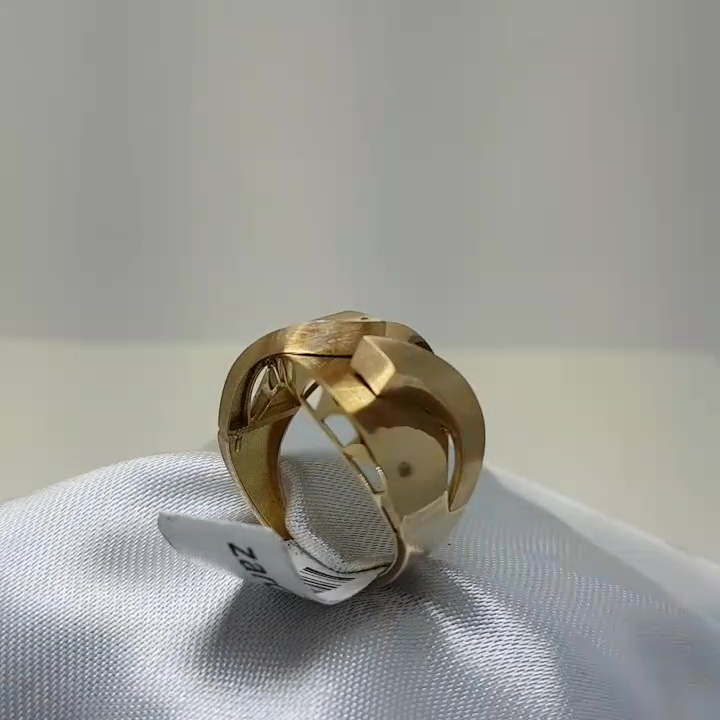Ring 4: (196, 304, 504, 614)
